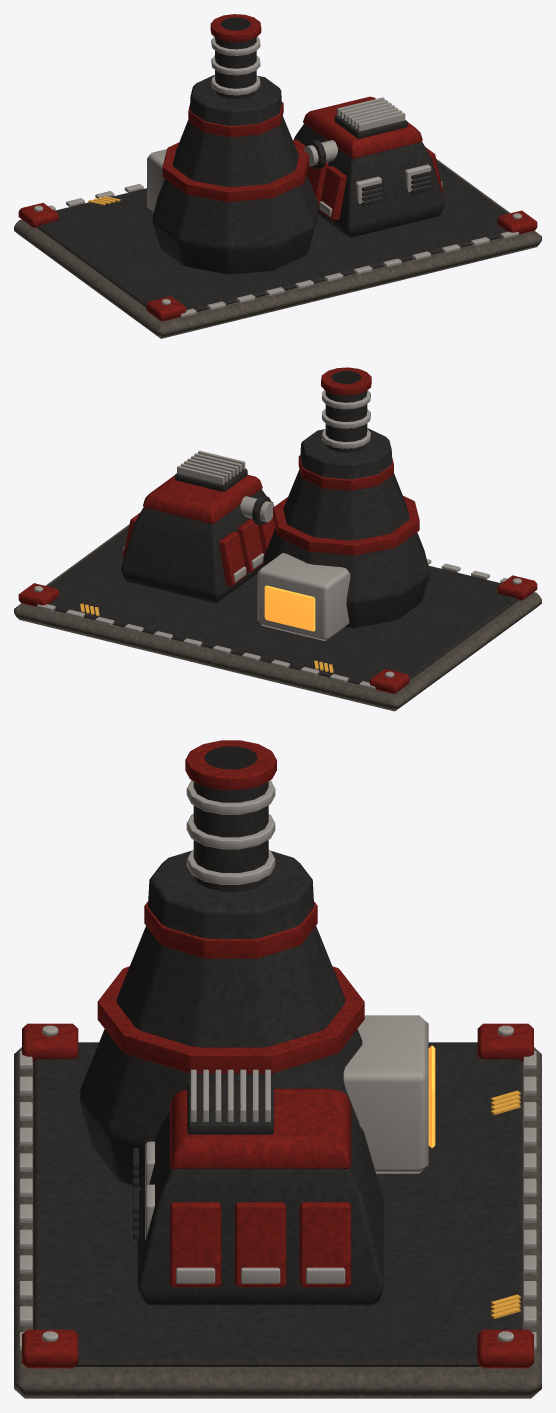
File: kharn_haut_fourneau.gltf
The picture shows the model from 3 angles, top to bottom: view 1: azimuth 30°, elevation 25°; view 2: azimuth 150°, elevation 25°; view 3: azimuth 270°, elevation 25°; orthographic projection. The views are drawn at different scales.
Parts seen in each view (by area): view 1: Root.003_Geometry; view 2: Root.003_Geometry; view 3: Root.003_Geometry.
Boxes of the visible parts, x1,y1,x2,y2 form: Root.003_Geometry: (14,14,541,338); Root.003_Geometry: (14,367,541,711); Root.003_Geometry: (14,740,541,1398).
Bounding box in the file's own units: 5.94 × 3.54 × 3.94.
Materials: 7 (4 with a texture image).
